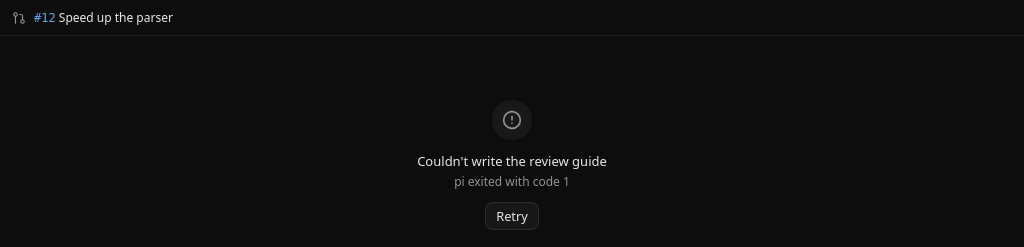
Test: GuideView › shows a failure with Retry, disabled while the retry is pending
Later steps or results of the test are not shown.
Expected: the text "Couldn't write the review guide" is shown, top-left (417, 152), bottom-right (607, 170)
Expected: the text "pi exited with code 1" is shown, top-left (454, 173), bottom-right (570, 190)
Click the button "Retry": [512, 216] box top-left (485, 202), bottom-right (539, 230)
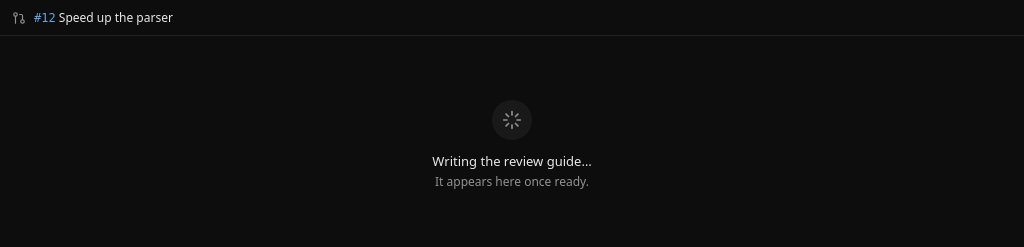
Expected: the text "Writing the review guide…" is shown, top-left (432, 152), bottom-right (592, 170)
